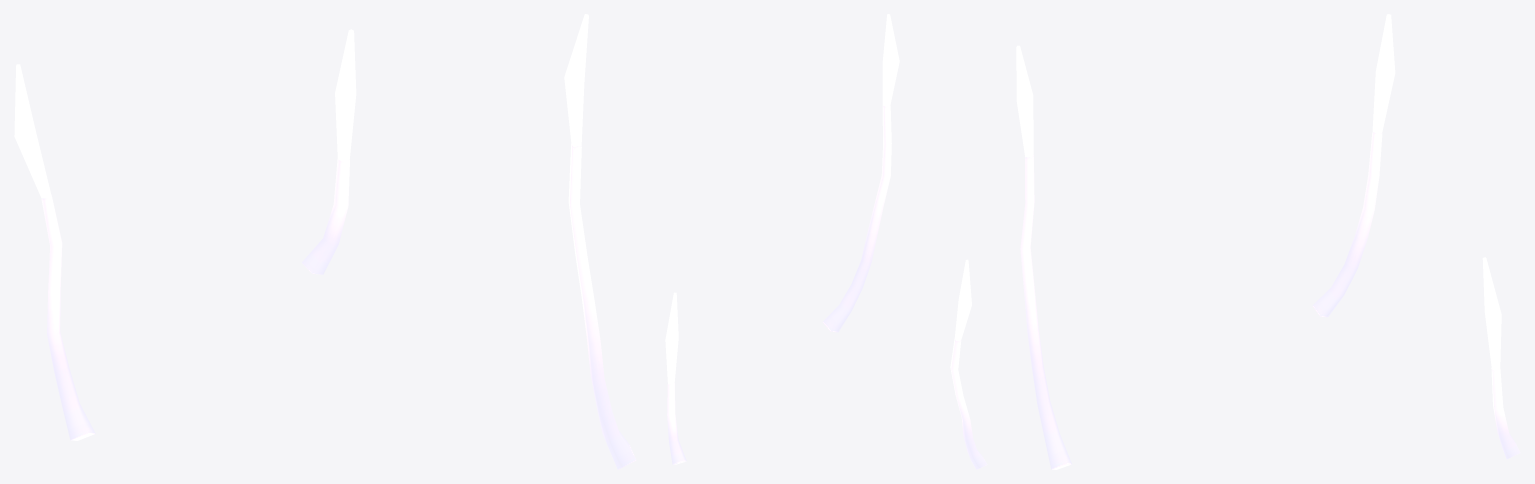
The picture shows the model from 3 angles, left to right: view 1: azimuth 30°, elevation 25°; view 2: azimuth 150°, elevation 25°; view 3: azimuth 270°, elevation 25°; orthographic projection. The views are drawn at different scales.
Parts seen in each view (by area): view 1: SM_PeaceLily_01_LOD0; view 2: SM_PeaceLily_01_LOD0; view 3: SM_PeaceLily_01_LOD0.
Boxes of the visible parts, <box> form: SM_PeaceLily_01_LOD0: <box>14,14,636,469</box>; SM_PeaceLily_01_LOD0: <box>665,14,987,469</box>; SM_PeaceLily_01_LOD0: <box>1016,14,1520,469</box>.
Bounding box in the file's own units: 0.3417 × 0.375 × 0.4264.
